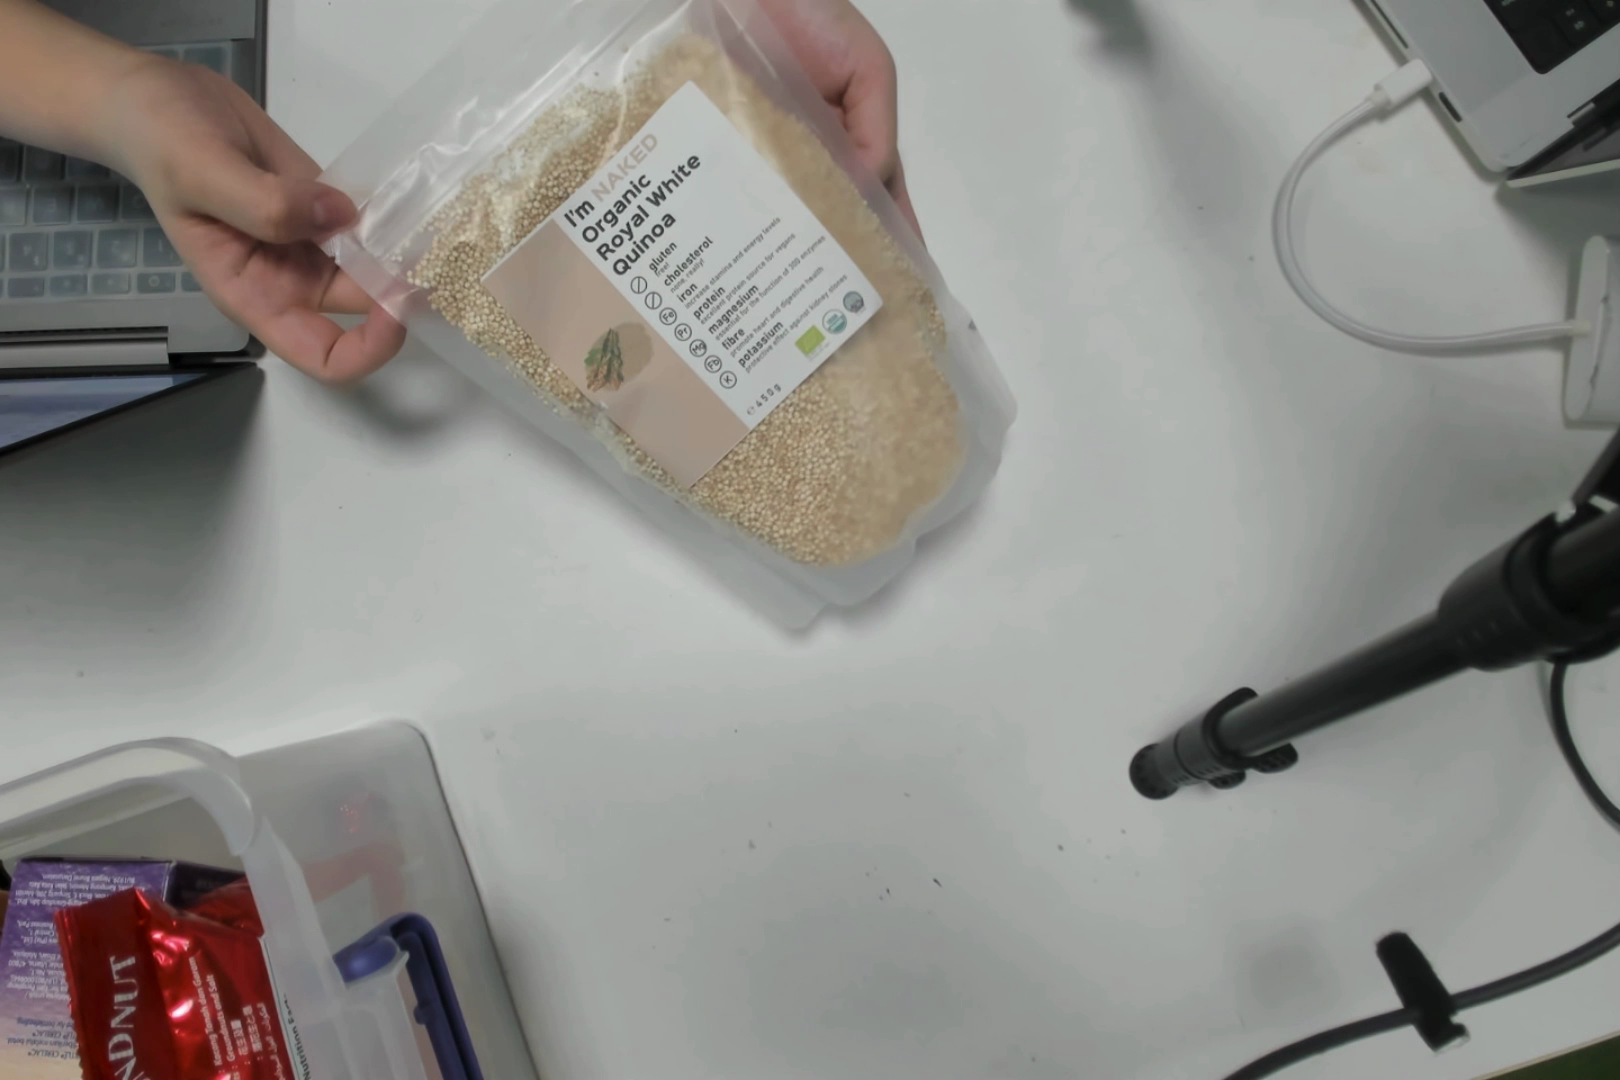Rice(brown-others)_400-499g_Halal_NonHealthy: (501, 80, 979, 606)
